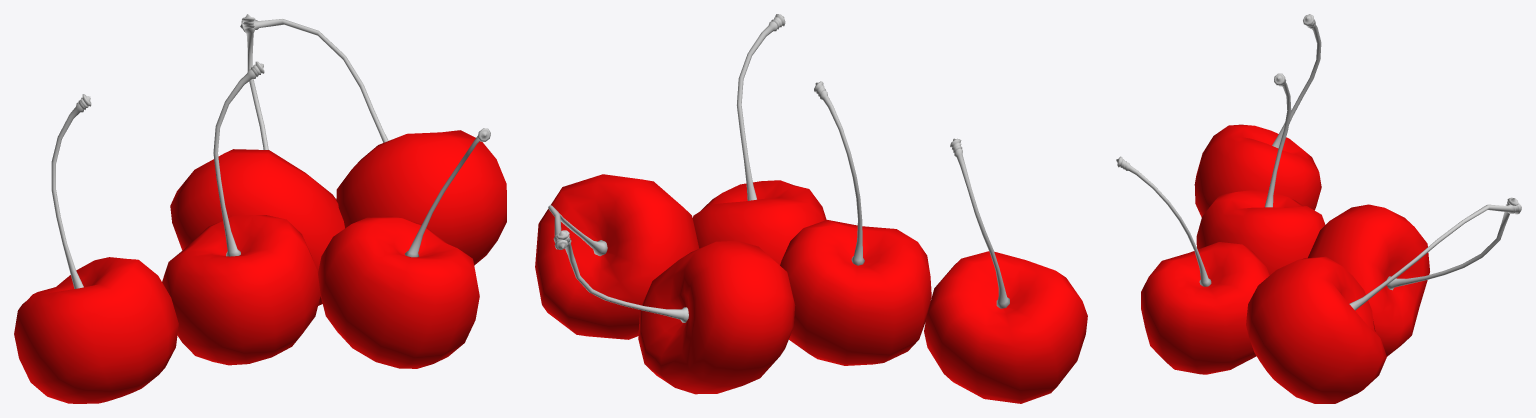
Rendered from Cherries.fbx.
3 renders of one model, left to right at view 1: azimuth 30°, elevation 25°; view 2: azimuth 150°, elevation 25°; view 3: azimuth 270°, elevation 25°, orthographic. The views are drawn at different scales.
Visible parts, largest first — view 1: cherry1.2, cherry1, cherry1.3, cherry3, cherry2, stem1.3, stem1, stem3, stem1.2, stem2; view 2: cherry1, cherry2, cherry3, cherry1.3, cherry1.2, stem1.2, stem1.3, stem2, stem1, stem3; view 3: cherry3, cherry1.2, cherry2, cherry1, cherry1.3, stem3, stem2, stem1.2, stem1.3, stem1.
Boxes of the visible parts, <box> form: cherry1.2: <box>318,216,479,368</box>; cherry1: <box>14,257,178,403</box>; cherry1.3: <box>162,215,320,365</box>; cherry3: <box>336,130,506,265</box>; cherry2: <box>170,149,344,305</box>; stem1.3: <box>213,61,264,256</box>; stem1: <box>51,94,91,288</box>; stem3: <box>240,19,388,142</box>; stem1.2: <box>405,128,490,257</box>; stem2: <box>241,14,268,149</box>; cherry1: <box>924,251,1087,403</box>; cherry2: <box>638,240,795,394</box>; cherry3: <box>535,174,699,339</box>; cherry1.3: <box>780,220,931,365</box>; cherry1.2: <box>692,180,826,265</box>; stem1.2: <box>736,14,785,200</box>; stem1.3: <box>814,81,864,265</box>; stem2: <box>556,230,688,322</box>; stem1: <box>950,138,1009,308</box>; stem3: <box>548,205,607,256</box>; cherry3: <box>1246,256,1386,403</box>; cherry1.2: <box>1141,242,1269,374</box>; cherry2: <box>1308,204,1429,356</box>; cherry1: <box>1194,124,1321,217</box>; cherry1.3: <box>1196,190,1325,274</box>; stem3: <box>1349,203,1521,310</box>; stem2: <box>1387,197,1518,290</box>; stem1.2: <box>1116,156,1211,286</box>; stem1.3: <box>1265,73,1291,207</box>; stem1: <box>1272,14,1321,148</box>.
Bounding box in the file's own units: 384 × 217 × 312.
